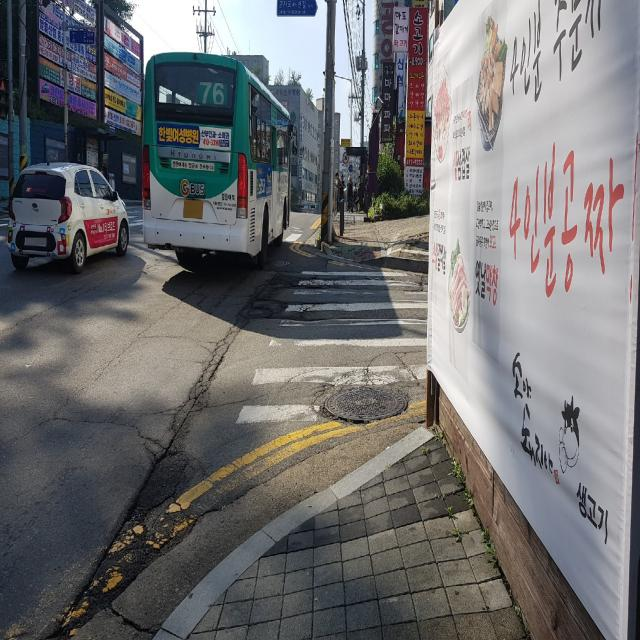횡단보도: (234, 269, 428, 427)
